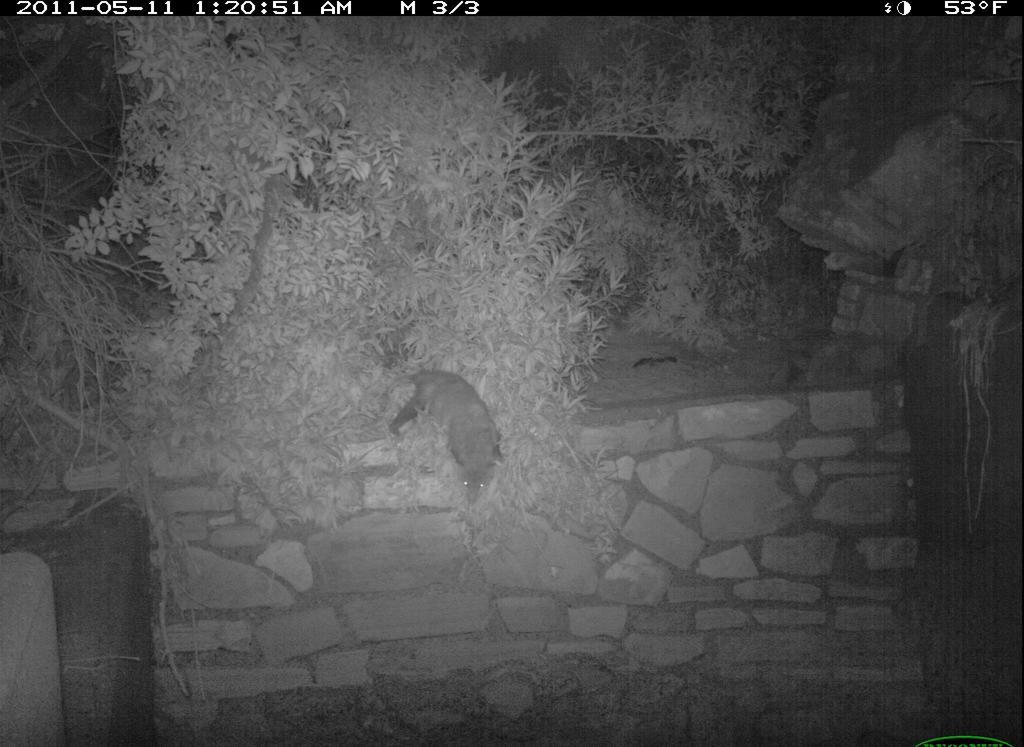opossum: (377, 365, 520, 513)
